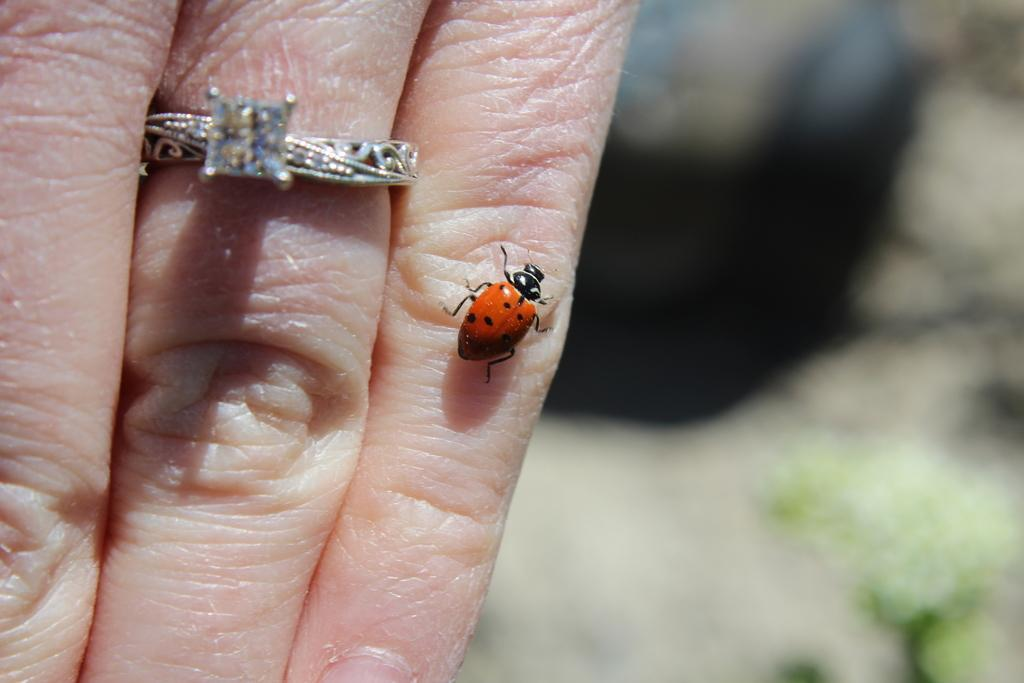ladybug: (439, 239, 557, 387)
